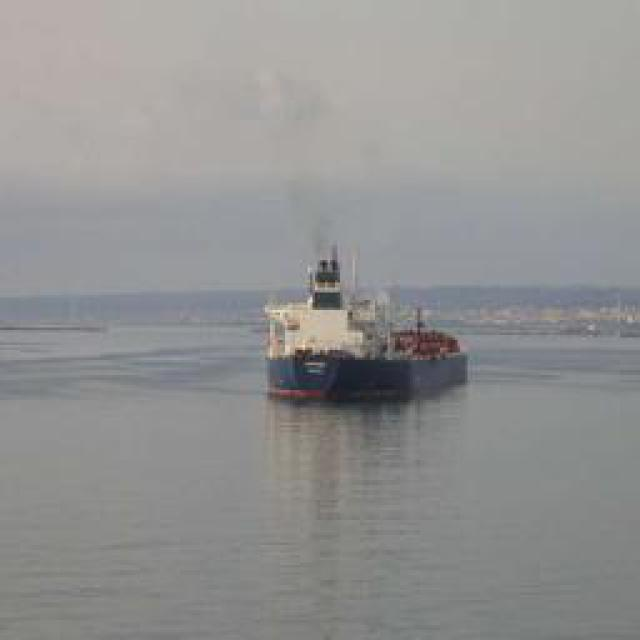Ship: (265, 239, 468, 404)
